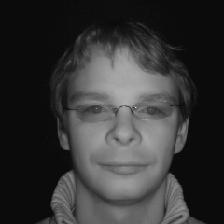happy: (45, 20, 198, 205)
